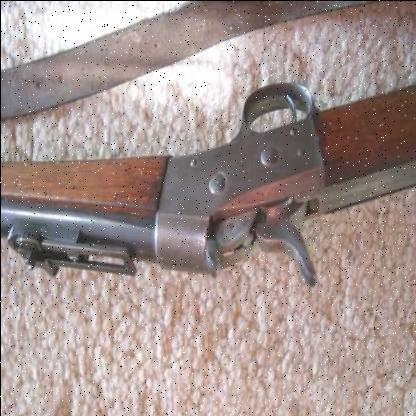rifle: (4, 50, 406, 327)
